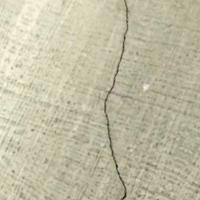crack: (92, 0, 144, 199)
